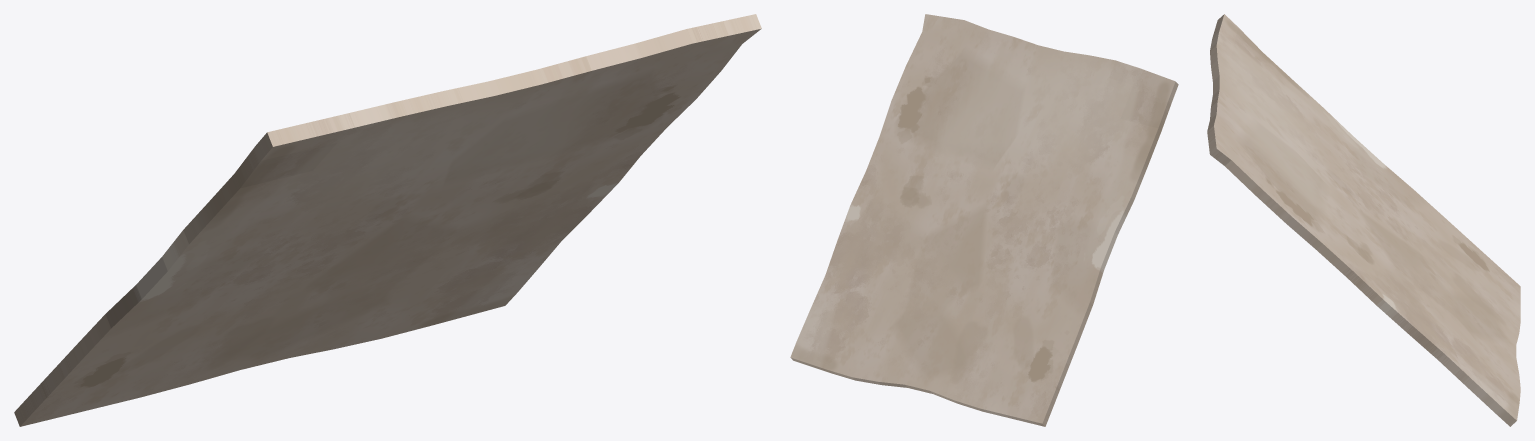
File: Paper.fbx
The picture shows the model from 3 angles, left to right: view 1: azimuth 30°, elevation 25°; view 2: azimuth 150°, elevation 25°; view 3: azimuth 270°, elevation 25°; orthographic projection. The views are drawn at different scales.
Parts seen in each view (by area): view 1: HD2L_MOD_Paper.001; view 2: HD2L_MOD_Paper.001; view 3: HD2L_MOD_Paper.001.
Boxes of the visible parts, x1=… form: HD2L_MOD_Paper.001: x1=14, y1=14, x2=761, y2=426; HD2L_MOD_Paper.001: x1=790, y1=14, x2=1178, y2=426; HD2L_MOD_Paper.001: x1=1207, y1=14, x2=1520, y2=426.
Bounding box in the file's own units: 43.59 × 41.92 × 41.92.
1 material, 1 textured.
